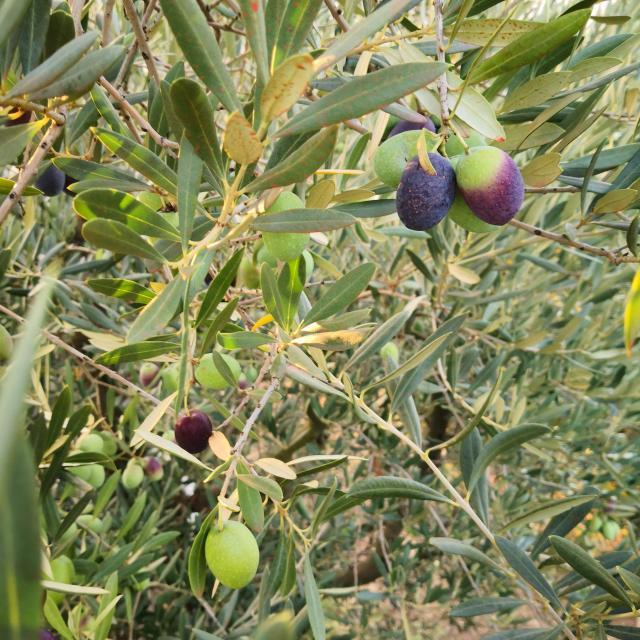Anthracnose: (374, 130, 422, 185)
